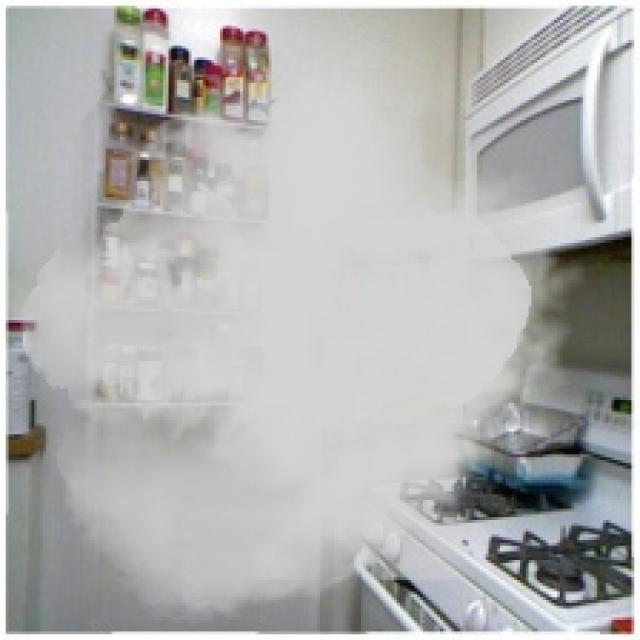smoke: (20, 66, 589, 628)
